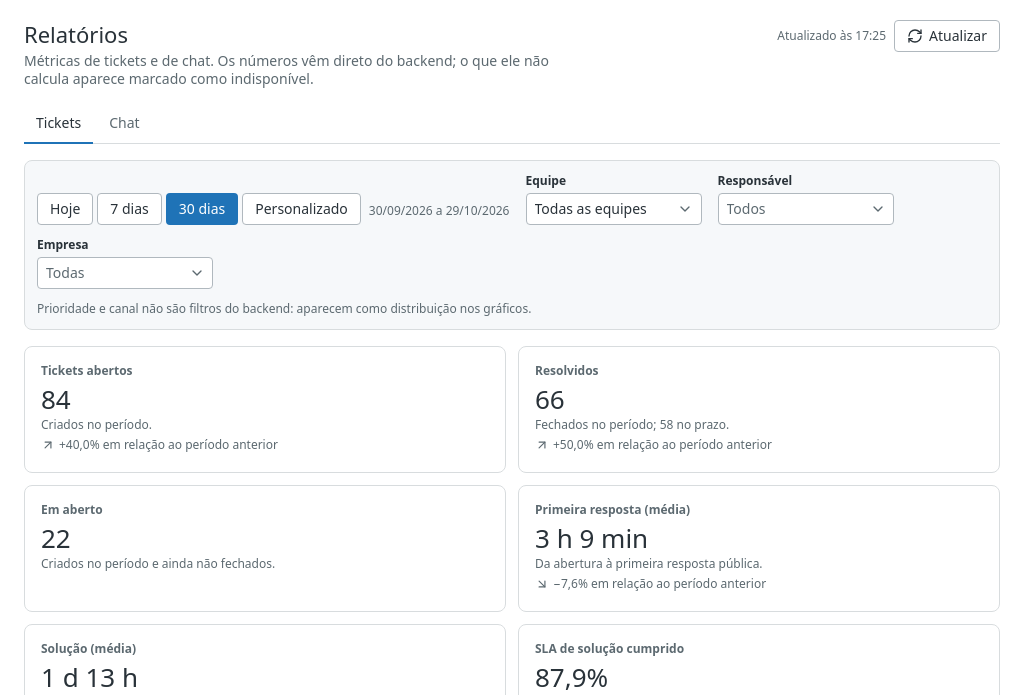
Relatórios › atalhos de período mudam o filtro e a aba Chat só tem período e responsável
Expected: the text "Tickets abertos" is shown, x1=41 y1=362 x2=133 y2=379
Click the button "7 dias" at (130, 209), box x1=97 y1=193 x2=162 y2=225
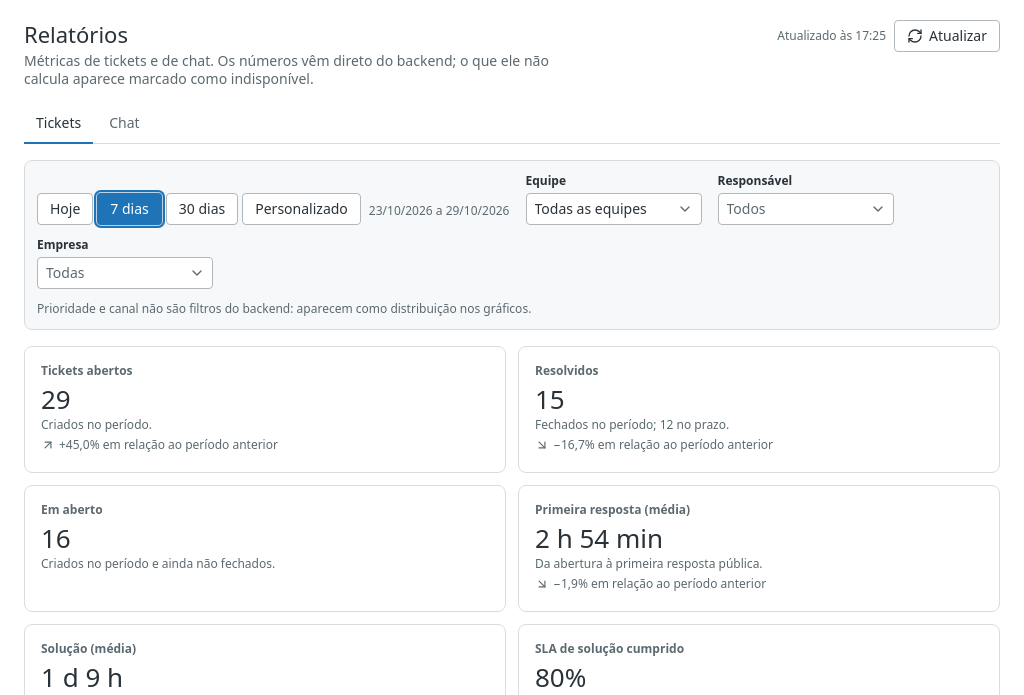
Click the tab "Chat" at (124, 124), box x1=97 y1=104 x2=152 y2=144
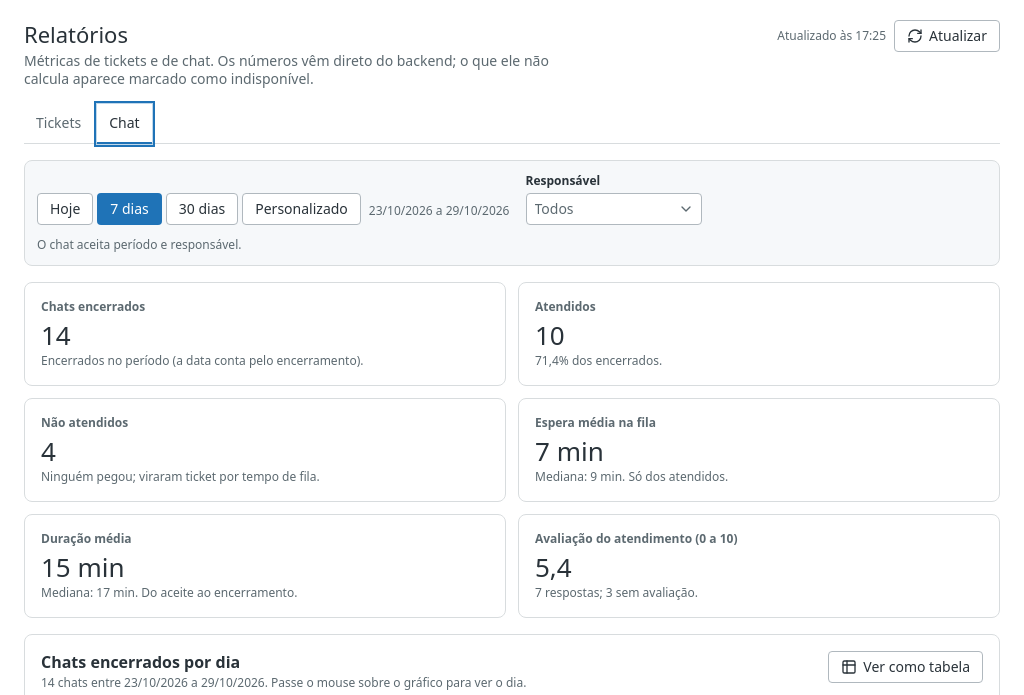
Now the text "Chats encerrados" is shown, box x1=41 y1=298 x2=145 y2=315
Now the label labelled "Equipe" is gone
Now the label labelled "Empresa" is gone
